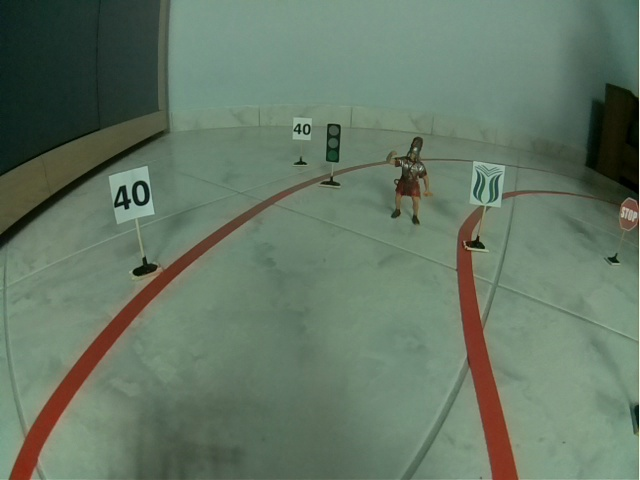Green Traffic Light: (325, 123, 341, 163)
Person: (386, 136, 434, 226)
Speed Limit 40: (109, 167, 155, 224), (293, 118, 312, 141)
Stop: (618, 197, 639, 231)
Subu: (470, 160, 506, 208)
